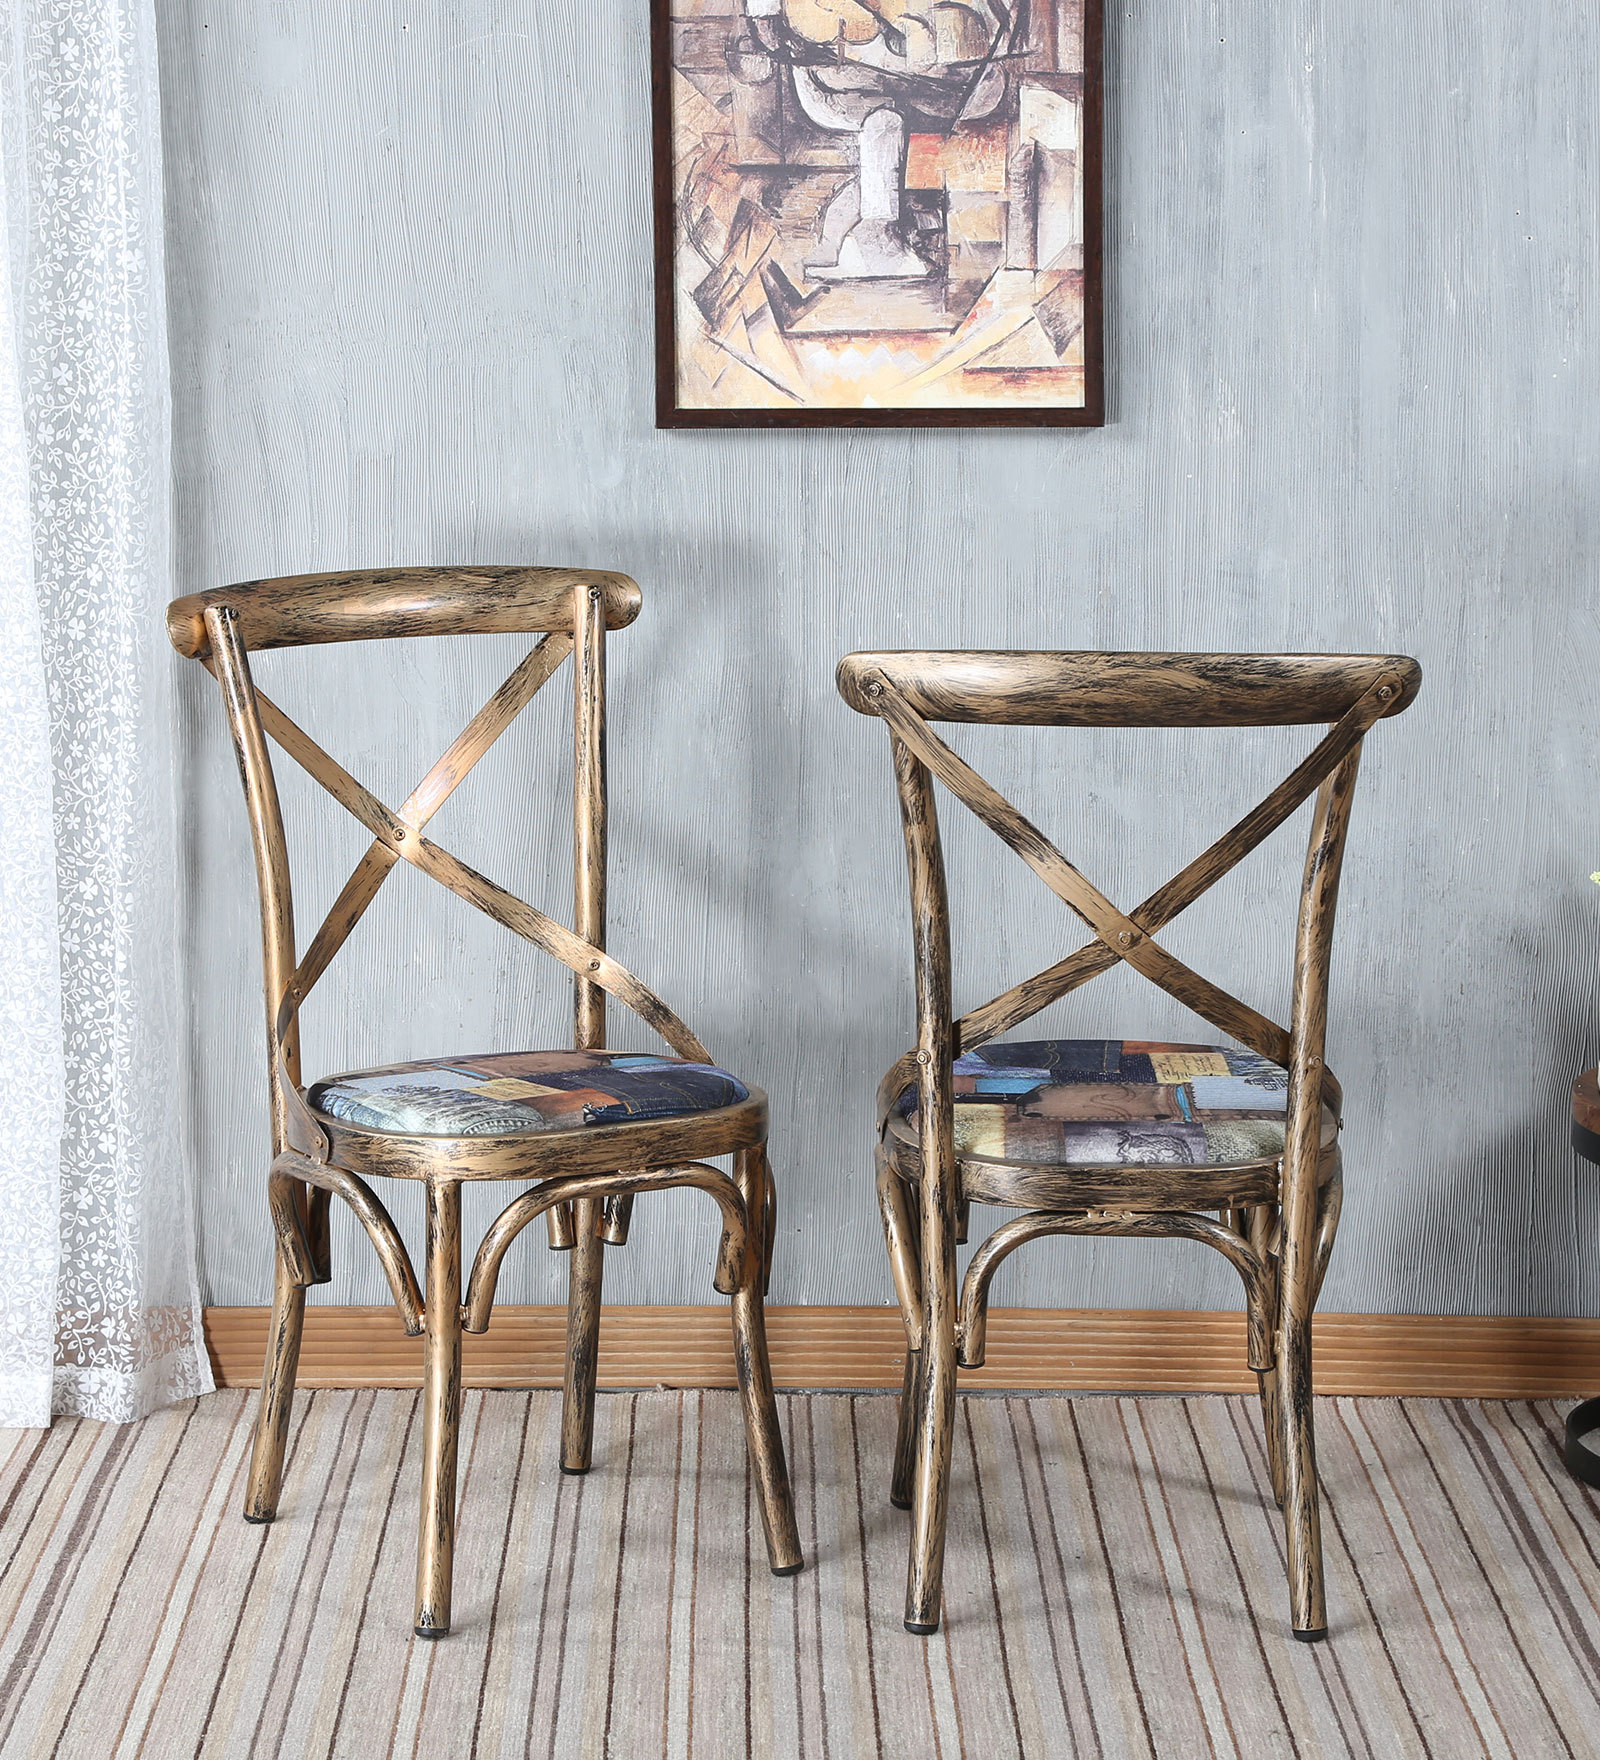Stanrock Metal Chair (Set of 2) in Antique Bronze by Bohemiana: (777, 461, 1517, 1640), (132, 486, 825, 1633)
